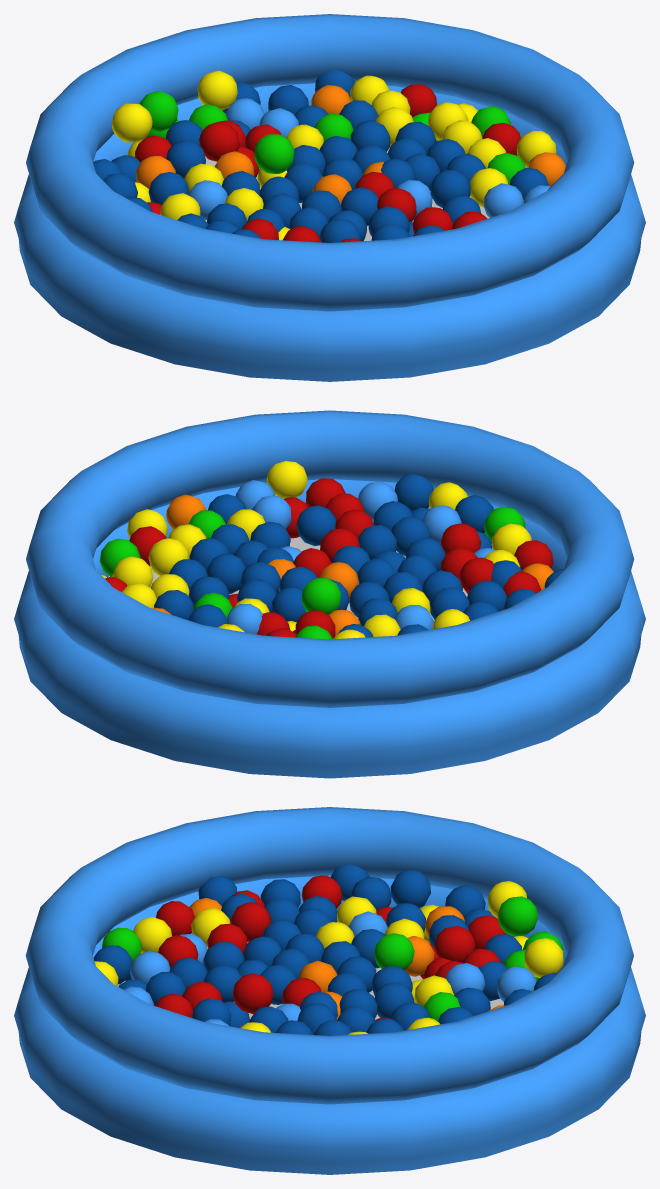
Rendered from Pool balls.FBX.
3 views of the same model, one above another, from view 1: azimuth 30°, elevation 25°; view 2: azimuth 150°, elevation 25°; view 3: azimuth 270°, elevation 25° (orthographic).
Visible parts, largest first — view 1: pool balls; view 2: pool balls; view 3: pool balls.
Boxes of the visible parts, x1,y1,x2,y2 form: pool balls: (14,14,645,381); pool balls: (14,410,645,778); pool balls: (14,807,645,1174).
Bounding box in the file's own units: 107 × 22.26 × 107.
